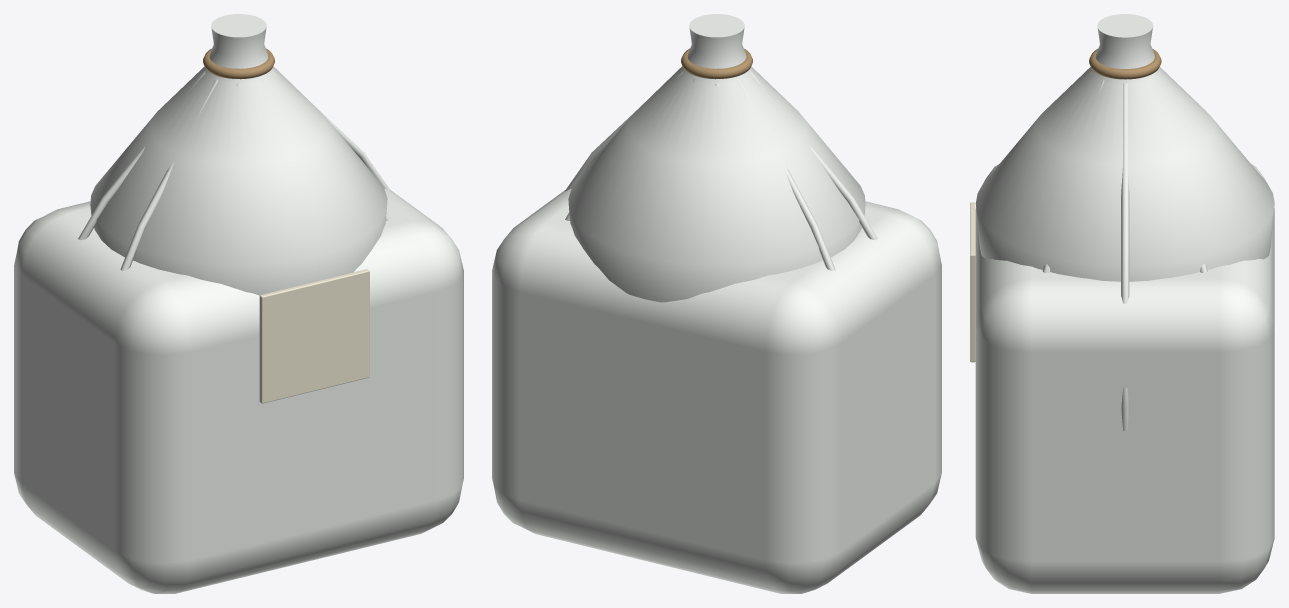
File: mushroom-farm-and-grow-rooms-filter-patch-bag-f0a43c7d__30811.glb
The picture shows the model from 3 angles, left to right: view 1: azimuth 30°, elevation 25°; view 2: azimuth 150°, elevation 25°; view 3: azimuth 270°, elevation 25°; orthographic projection.
Parts seen in each view (by area): view 1: filter-patch-bag; view 2: filter-patch-bag; view 3: filter-patch-bag.
Boxes of the visible parts, x1=… form: filter-patch-bag: x1=14, y1=14, x2=463, y2=593; filter-patch-bag: x1=492, y1=14, x2=941, y2=593; filter-patch-bag: x1=970, y1=14, x2=1274, y2=593.
Size of the model in its own units: 0.2864 by 0.397 by 0.218.
